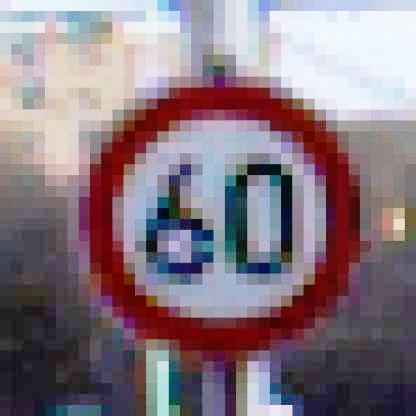Speed Limit -60-: (74, 78, 370, 361)
